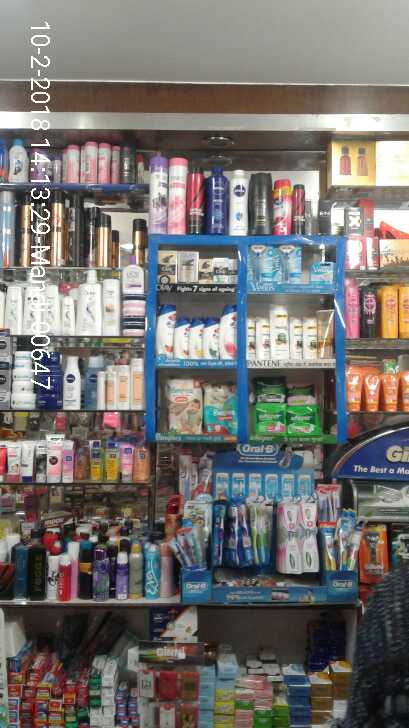gillete: (361, 522, 389, 584), (393, 525, 409, 567)
venus: (251, 246, 279, 283), (279, 245, 301, 283), (308, 263, 332, 284)
